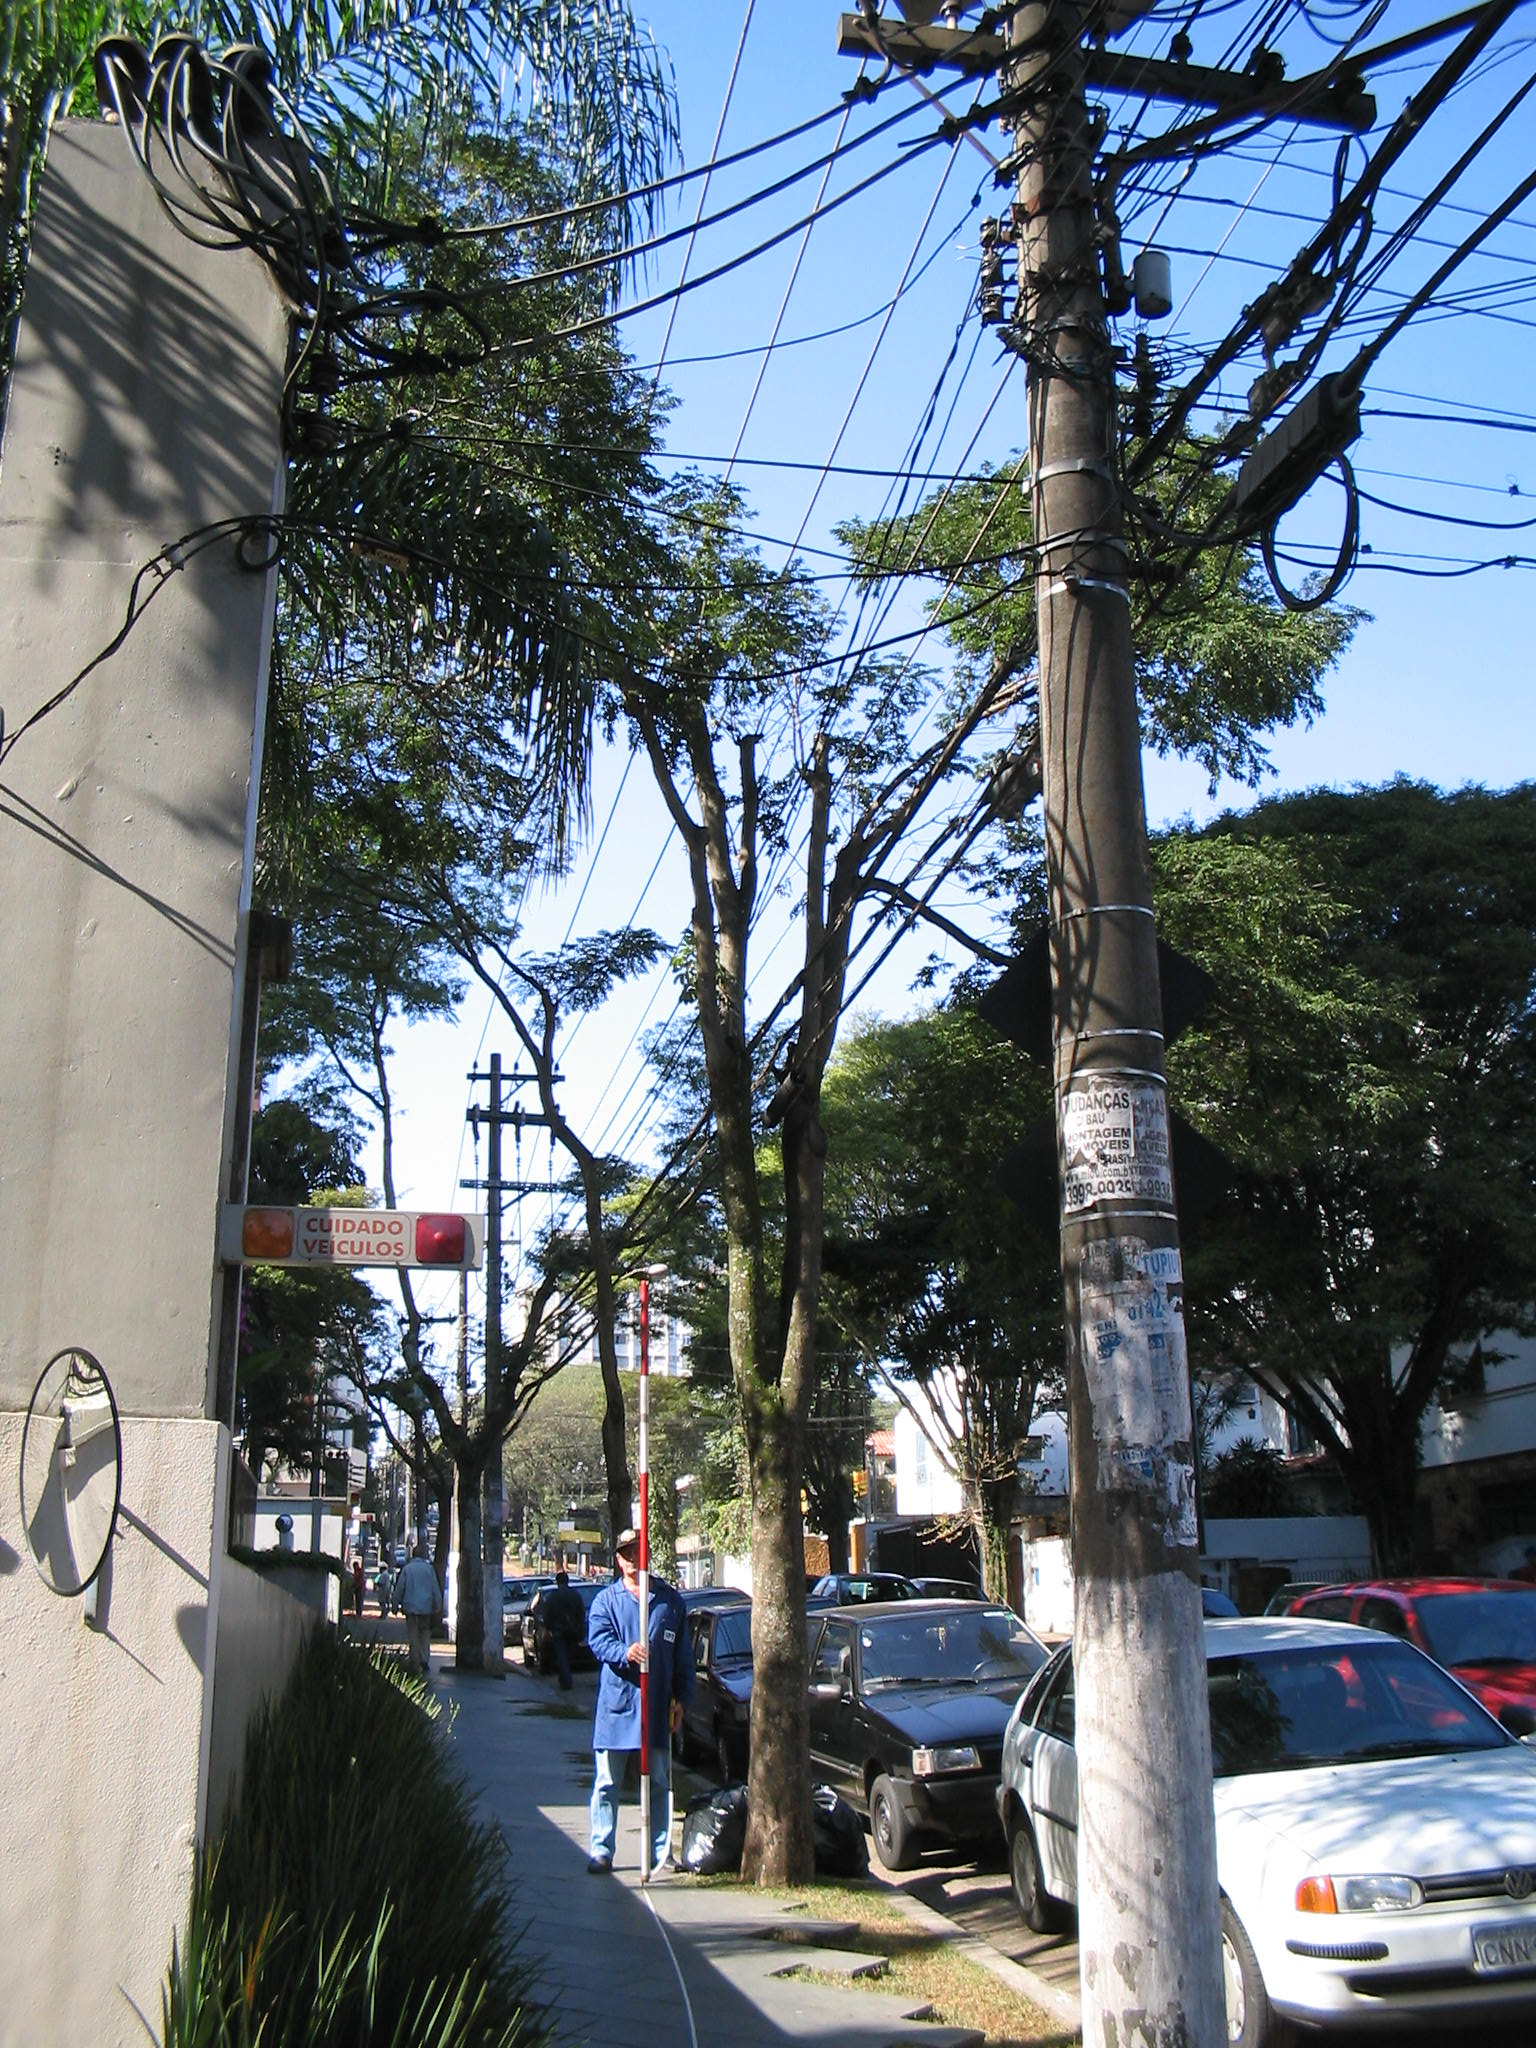crown: (295, 124, 1359, 834)
stem: (703, 1408, 845, 1884)
stick: (615, 1282, 665, 1879)
tree: (294, 124, 1368, 1892)
